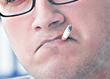smoke: (59, 25, 73, 44)
